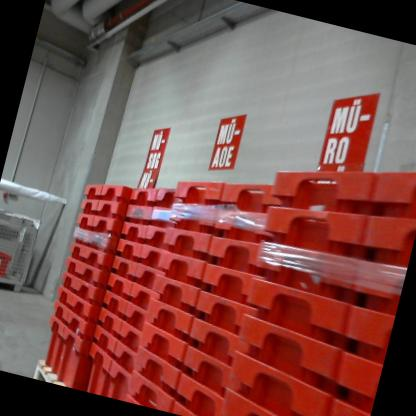pallet: (25, 355, 70, 386)
small_load_carrier: (227, 307, 387, 398), (238, 269, 395, 357), (259, 182, 416, 269), (271, 138, 416, 232), (131, 291, 244, 393), (251, 232, 406, 306), (214, 347, 378, 416), (152, 252, 255, 334), (168, 154, 280, 224), (166, 183, 282, 250), (128, 342, 231, 412), (163, 217, 266, 274), (213, 382, 354, 416), (33, 311, 94, 389), (120, 373, 215, 416), (78, 342, 137, 398), (116, 171, 182, 217), (92, 305, 149, 354), (103, 252, 161, 295), (88, 327, 142, 373), (108, 233, 170, 272), (49, 298, 101, 344), (51, 281, 99, 327), (52, 267, 105, 308), (103, 269, 155, 310), (115, 217, 171, 254), (121, 196, 178, 231), (97, 289, 148, 328), (57, 251, 111, 287), (75, 170, 125, 207), (76, 191, 124, 222), (65, 236, 111, 268), (71, 211, 114, 239), (67, 229, 112, 255), (0, 249, 13, 285)
stillage: (0, 204, 50, 304)
